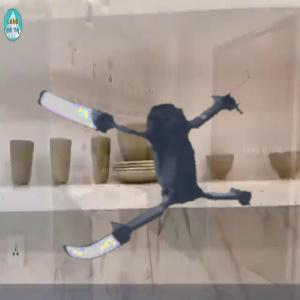drone: (17, 22, 282, 287)
